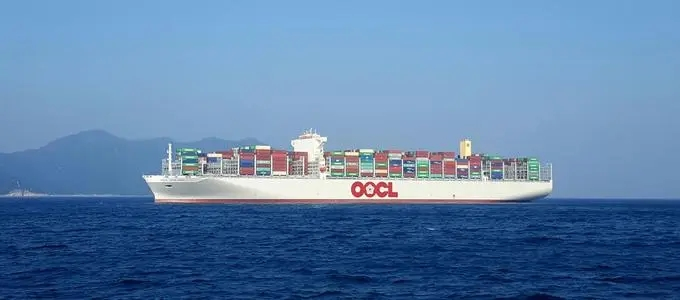Cargoship: (139, 121, 555, 207)
